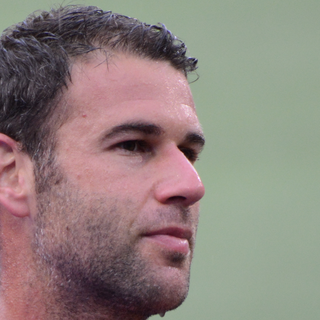eye: (103, 134, 157, 159)
